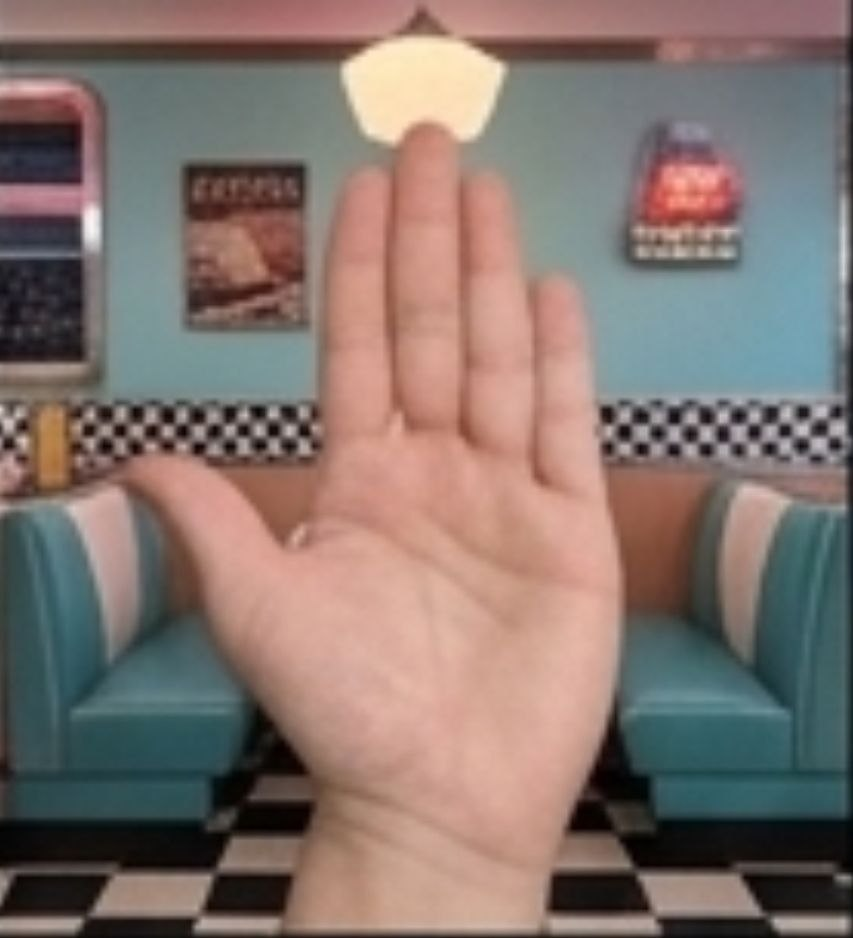Palm: (89, 95, 649, 894)
